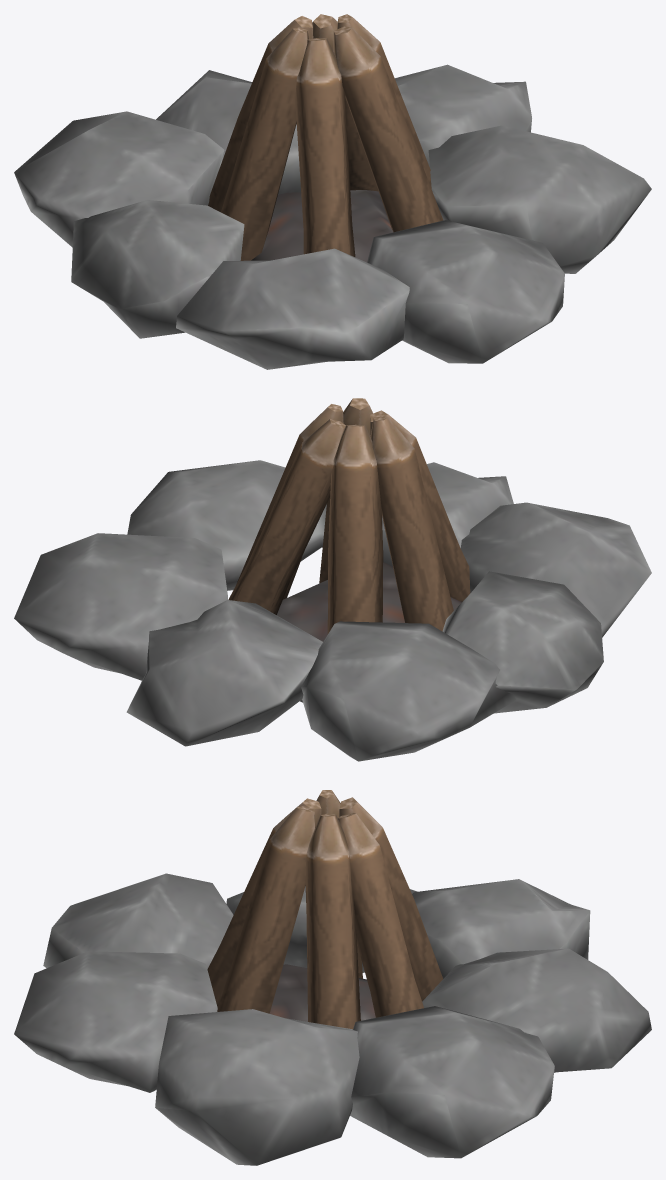
File: sm_Campfire.fbx
3 views of the same model, one above another, from view 1: azimuth 30°, elevation 25°; view 2: azimuth 150°, elevation 25°; view 3: azimuth 270°, elevation 25° (orthographic).
Parts seen in each view (by area): view 1: sm_campFire; view 2: sm_campFire; view 3: sm_campFire.
Part boxes in pixels (x1,y1,x2,y2): sm_campFire: (14, 14, 651, 369); sm_campFire: (14, 398, 651, 761); sm_campFire: (14, 790, 651, 1165).
Size of the model in its own units: 3.41 by 1.63 by 3.79.
